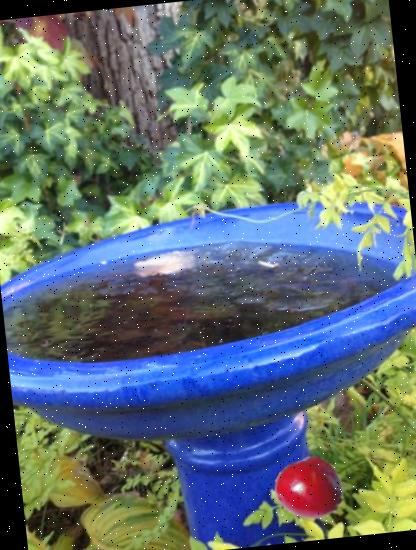Cherry: (272, 450, 348, 525)
